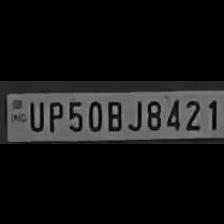0: (84, 96, 103, 130)
1: (204, 96, 220, 130)
2: (181, 96, 201, 130)
4: (162, 96, 180, 130)
5: (63, 96, 83, 132)
8: (142, 96, 162, 130)
B: (103, 96, 123, 132)
J: (124, 95, 142, 131)
P: (44, 97, 64, 132)
U: (25, 97, 45, 131)
